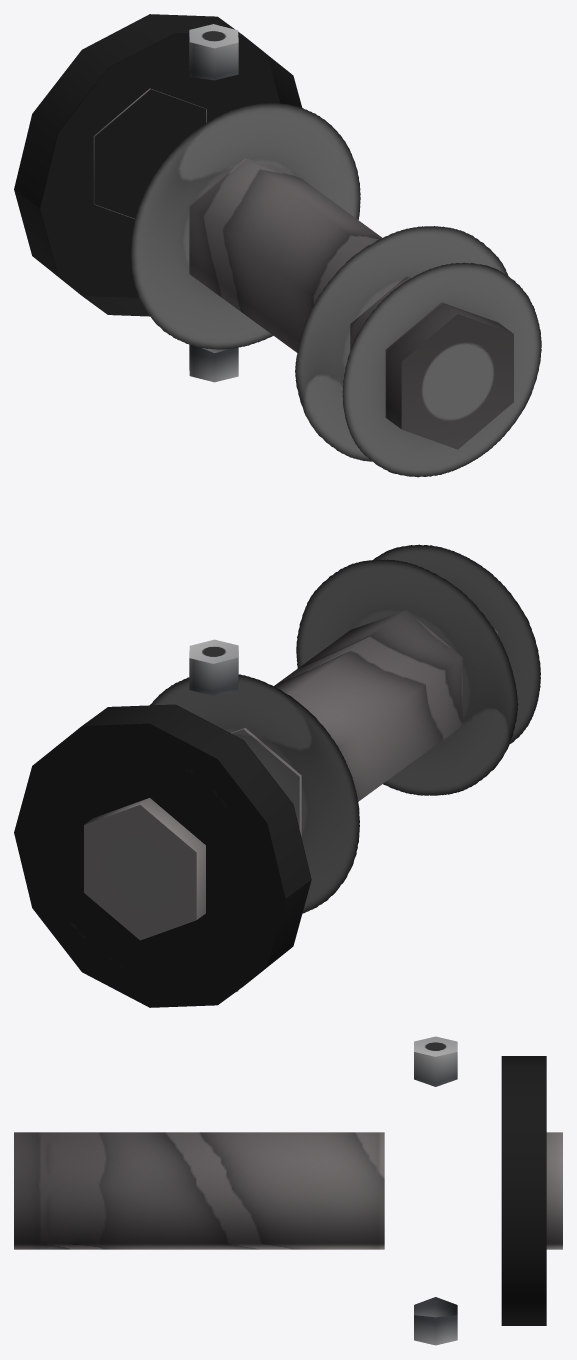
File: obj_interactive_suspensionsport_02_off.fbx
3 renders of one model, top to bottom at view 1: azimuth 30°, elevation 25°; view 2: azimuth 150°, elevation 25°; view 3: azimuth 270°, elevation 25°, orthographic. The views are drawn at different scales.
Parts seen in each view (by area): view 1: obj_interactive_suspensionsport_02_off; view 2: obj_interactive_suspensionsport_02_off; view 3: obj_interactive_suspensionsport_02_off.
Boxes of the visible parts, box(x1,y1,x2,y2) form: obj_interactive_suspensionsport_02_off: box(14, 14, 541, 477); obj_interactive_suspensionsport_02_off: box(14, 544, 540, 1007); obj_interactive_suspensionsport_02_off: box(14, 1036, 562, 1345).
Bounding box in the file's own units: 1.09 × 1.29 × 2.22.
